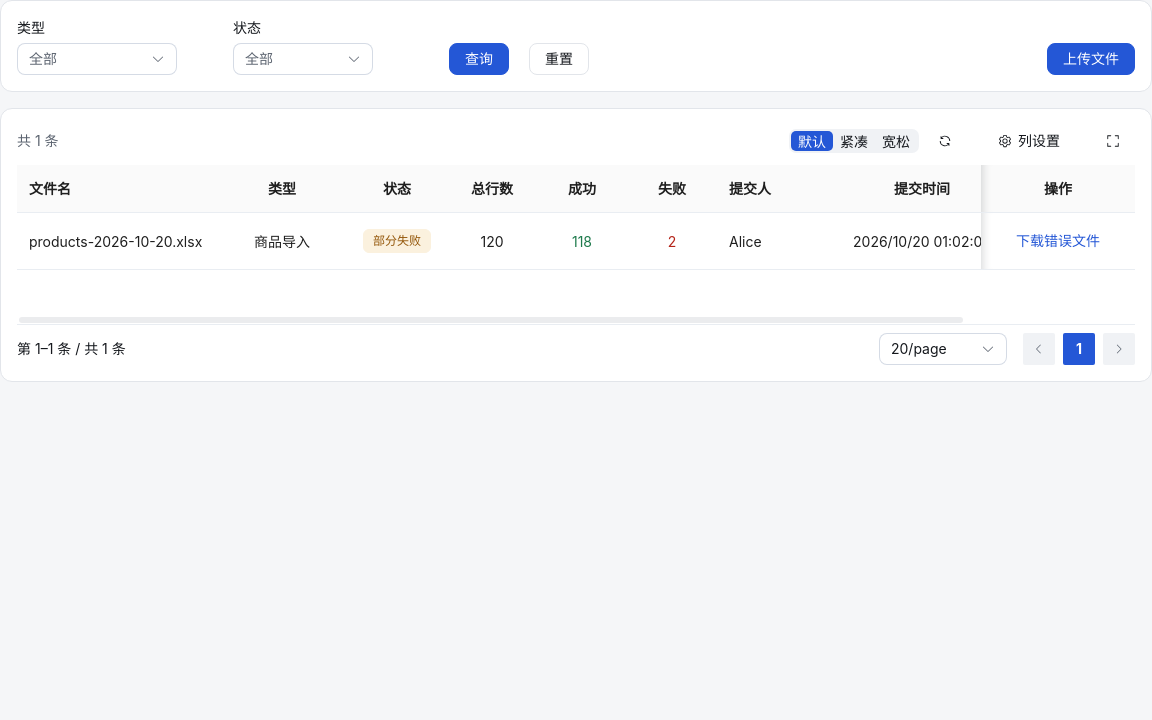
Test case: upload entry (task 77) › offers product and mapping imports to product:edit, and not creator import
The image size is (1152, 720).
Step 1. Click the button with test id "upload-entry" → coordinates (1091, 59), box [1047,43,1135,75]
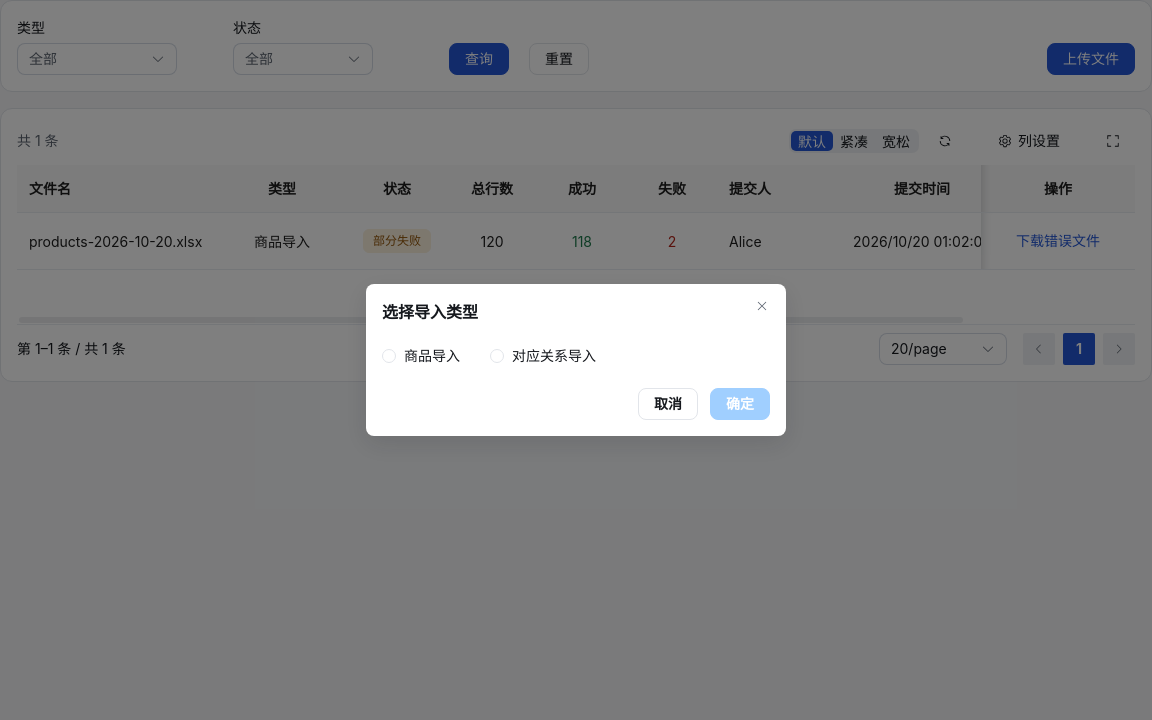
Expected: the text "商品导入" is shown, [254,232,310,250]
Now the text "对应关系导入" is shown, box [504,345,596,367]
